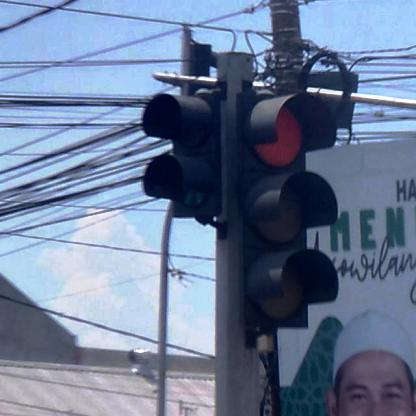Traffic Light -Red-: (238, 92, 340, 330)
